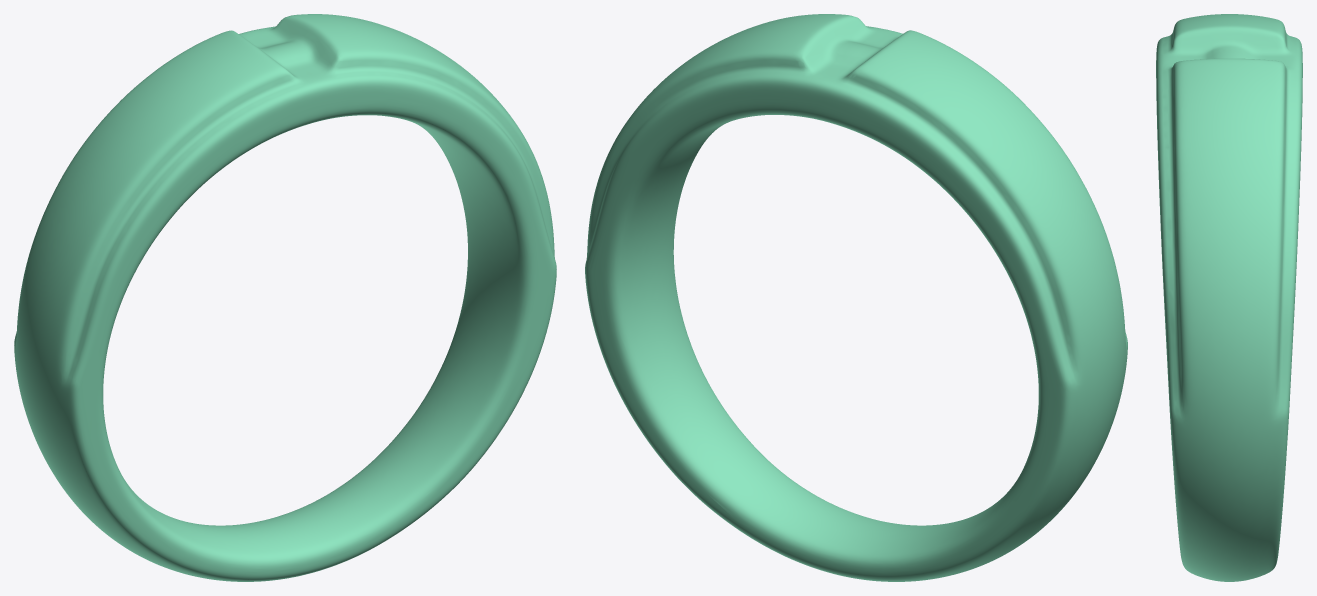
3 renders of one model, left to right at view 1: azimuth 30°, elevation 25°; view 2: azimuth 150°, elevation 25°; view 3: azimuth 270°, elevation 25°, orthographic. The views are drawn at different scales.
Visible parts, largest first — view 1: Metal02; view 2: Metal02; view 3: Metal02.
Part boxes in pixels (x1,y1,x2,y2): Metal02: [14, 14, 556, 581]; Metal02: [585, 14, 1127, 581]; Metal02: [1156, 14, 1302, 581].
Bounding box in the file's own units: 21.68 × 21.77 × 5.65.
